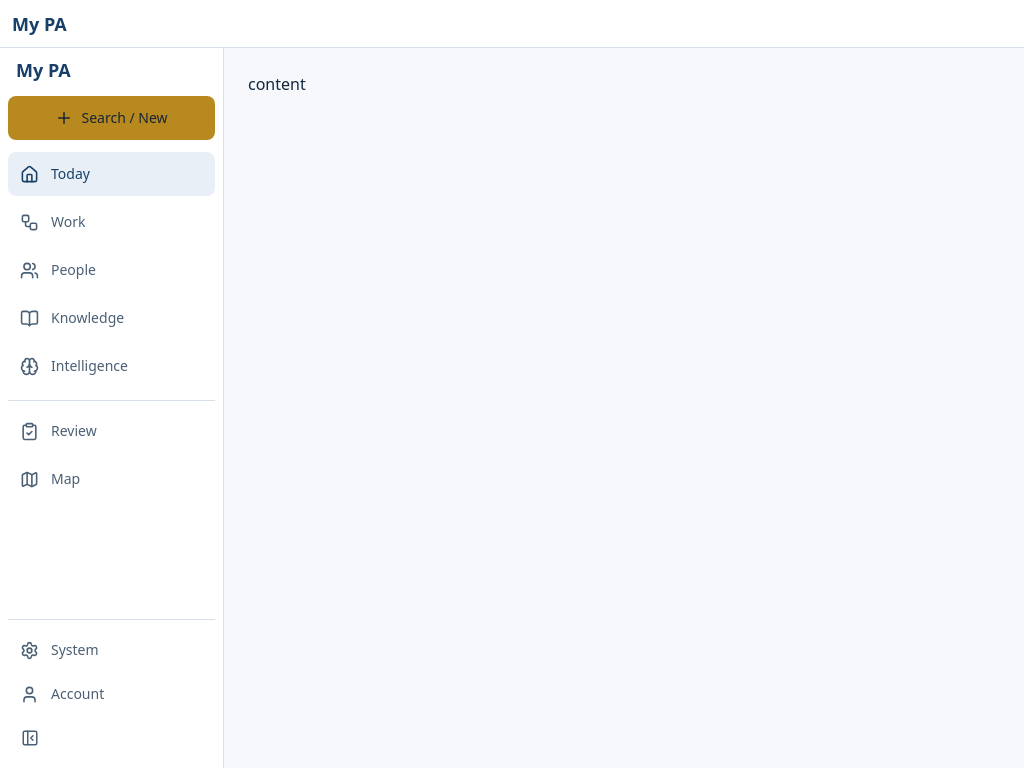
Scenario: app shell › keeps Appearance inside Account and collapses the rail from System
Click the button "Account": click(62, 694) [8,672,116,716]
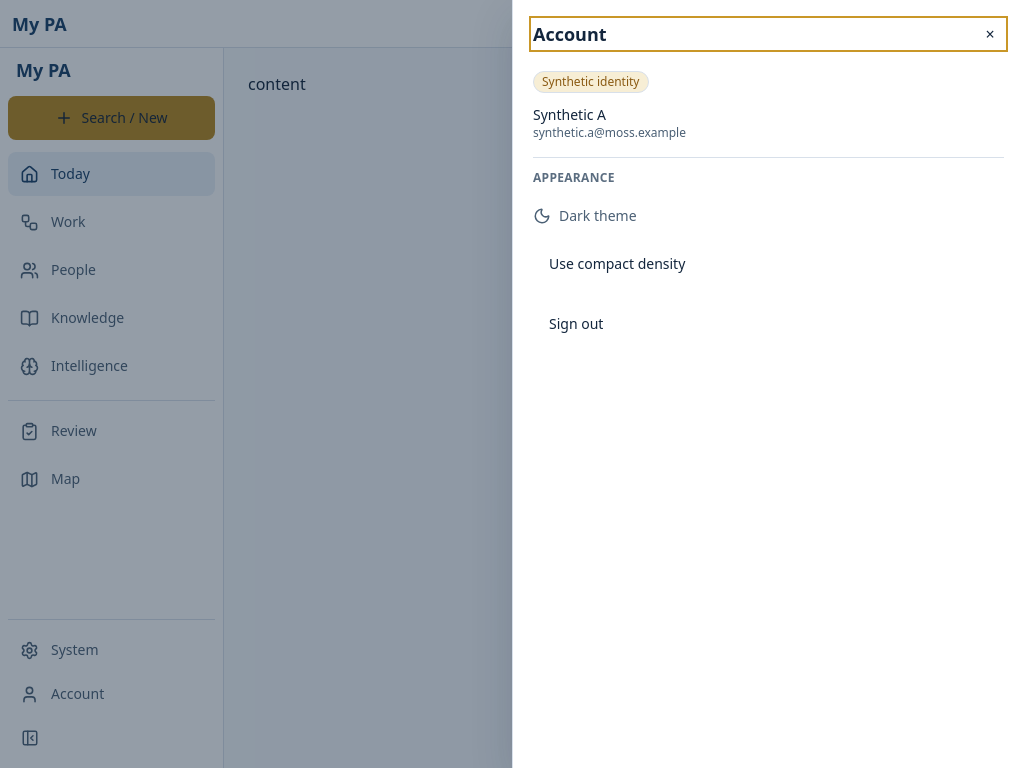
expect the button with aria-label "Use dark theme" is shown: met
expect the button "Use compact density" is shown: met, box [533,242,701,286]
expect the button "Sign out" is shown: met, box [533,302,619,346]
Click the button with aria-label "Use dark theme": click(585, 216) [533,194,637,238]
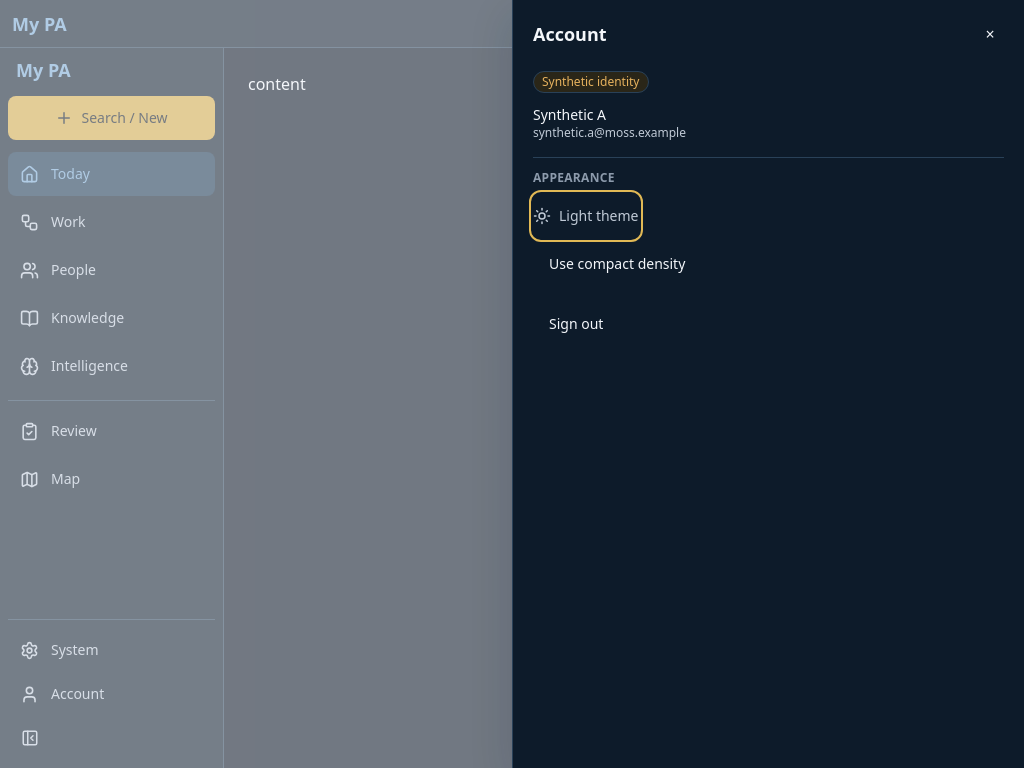
Click the button "Use compact density": click(617, 264) [533,242,701,286]
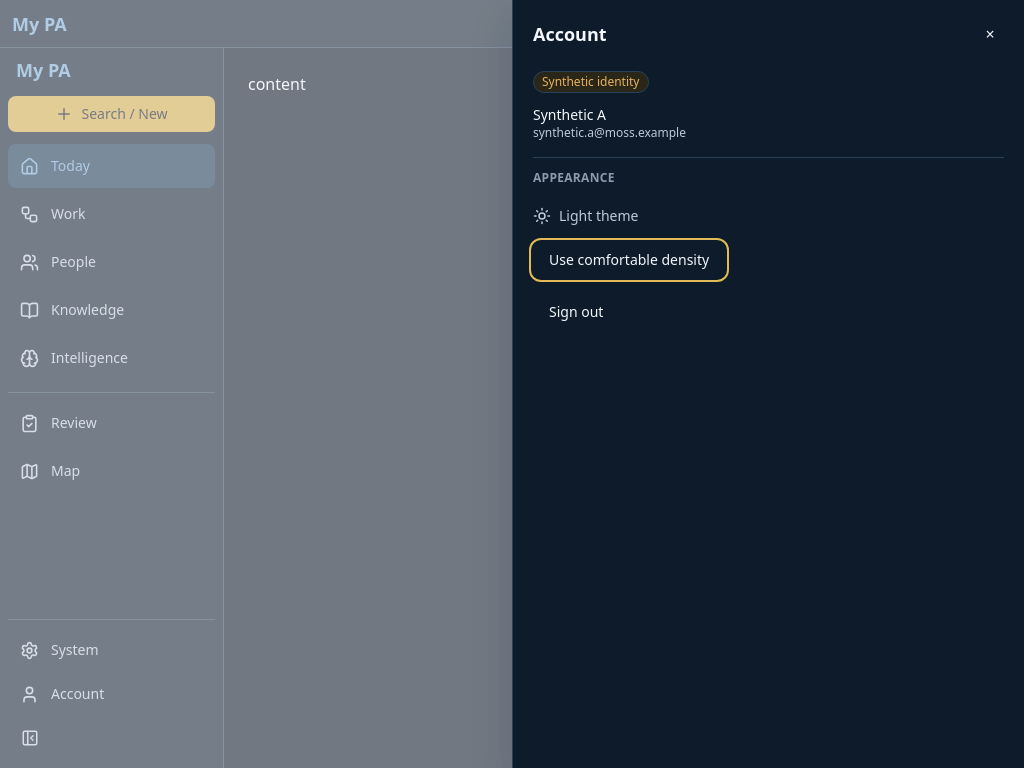
Click the button named "Close panel": click(990, 34) [968,12,1012,56]
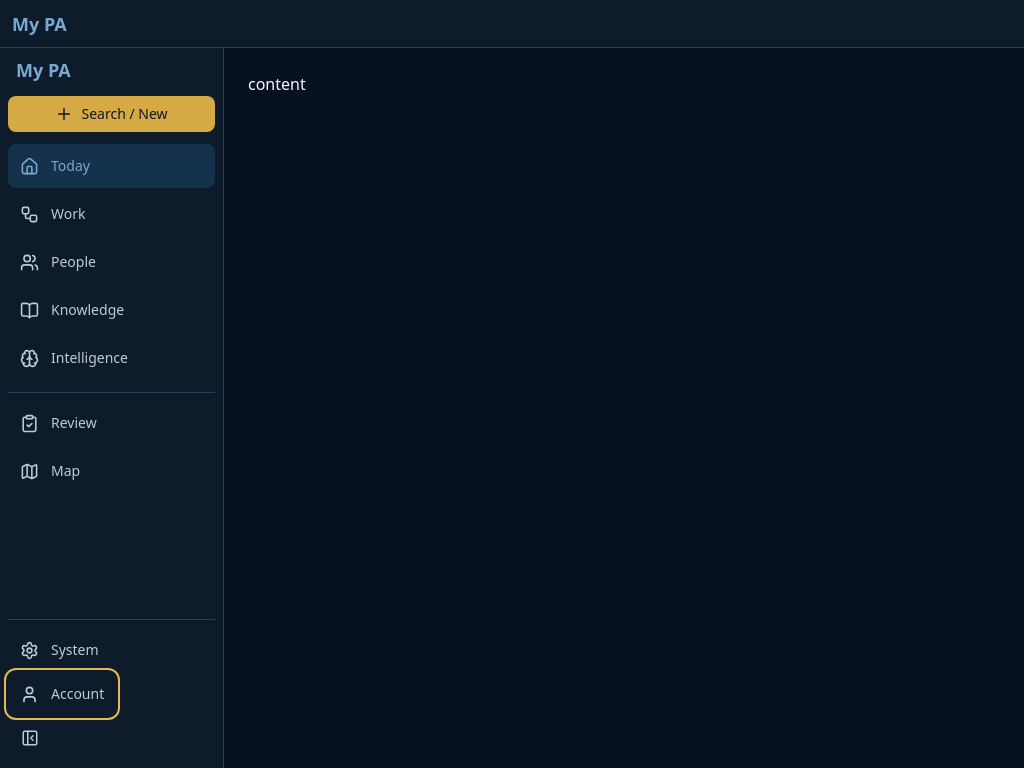
Click the button named "Collapse navigation": click(30, 738) [8,716,52,760]
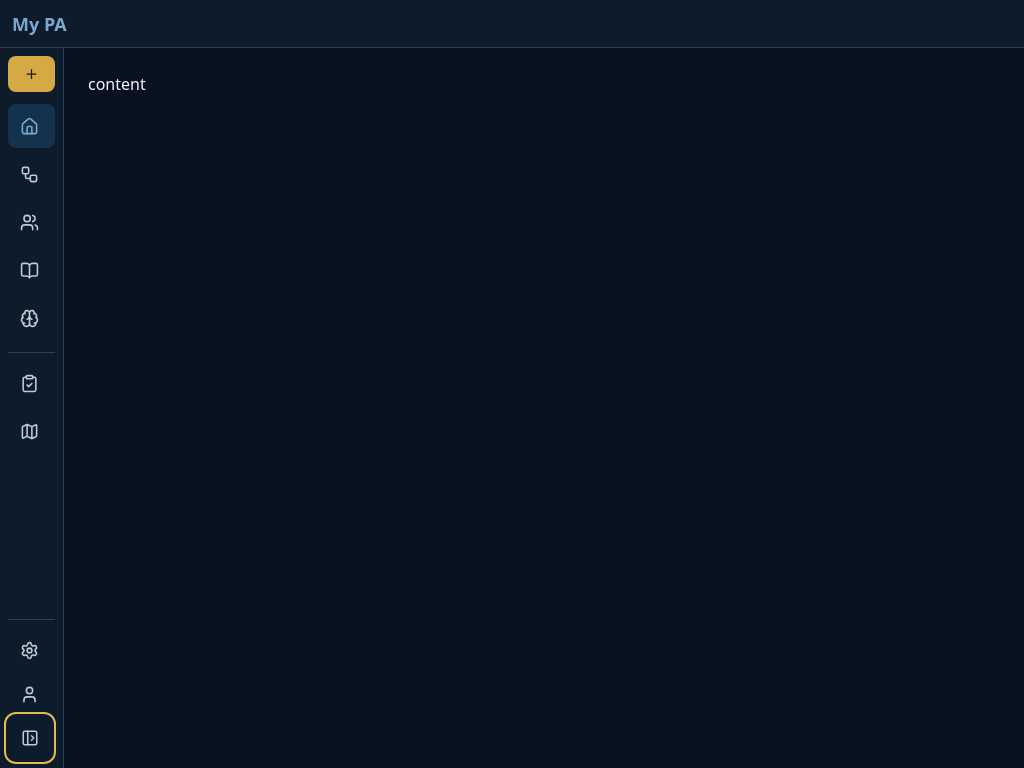
expect the button named "Account" is shown: met, box [8,672,51,716]
expect the button named "Expand navigation" is shown: met, box [8,716,52,760]
